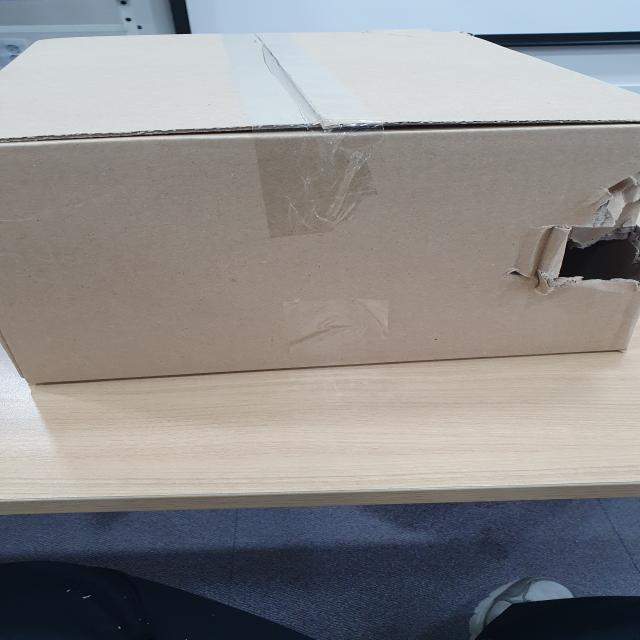hole: (502, 176, 640, 298)
